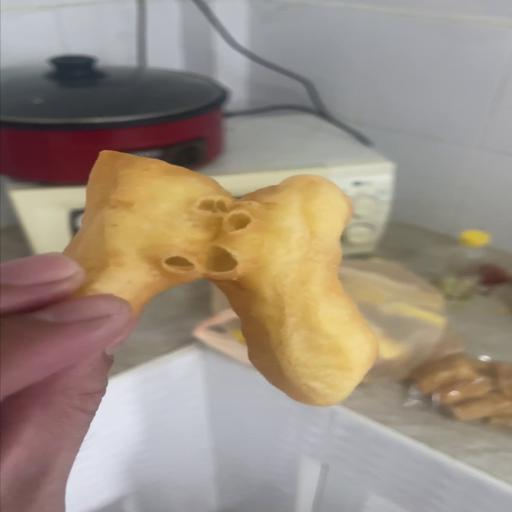street_golden_defect: (63, 152, 394, 407)
